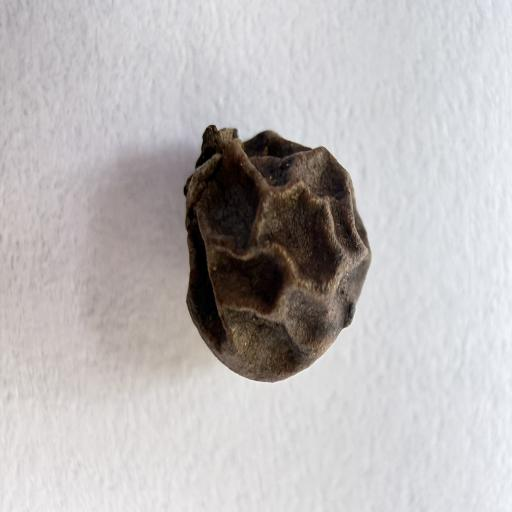Black_pepper: (160, 120, 379, 389)
